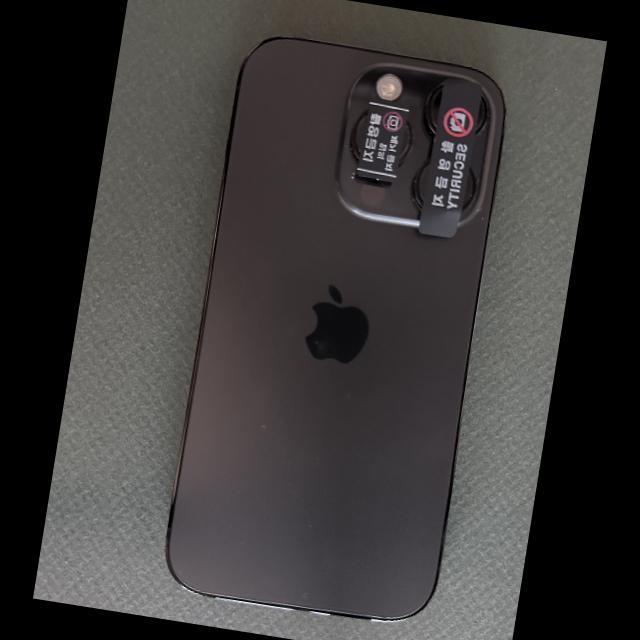lens: (424, 84, 442, 135), (350, 109, 368, 158), (413, 161, 429, 209)
phone: (166, 39, 503, 620)
sticker: (419, 78, 483, 239), (356, 99, 409, 183)
